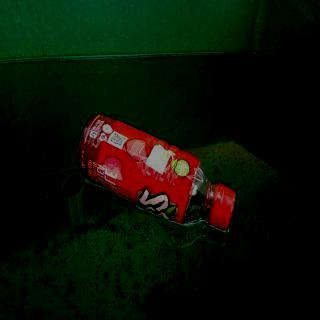bottle: (76, 114, 237, 234)
